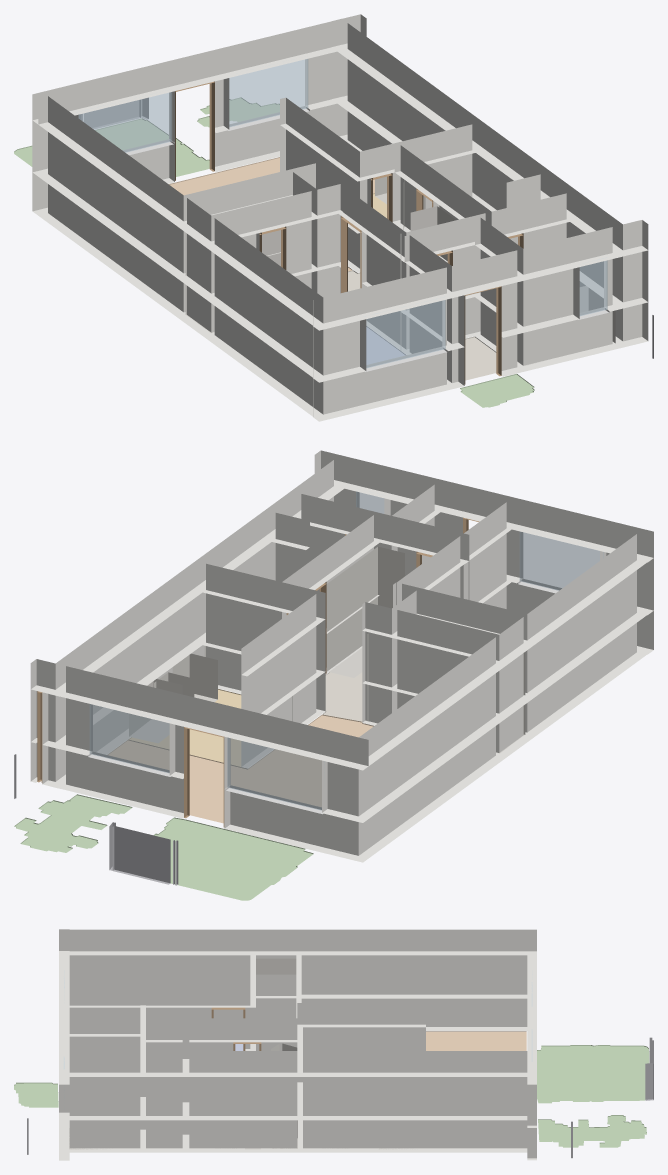
3 views of the same model, one above another, from view 1: azimuth 30°, elevation 25°; view 2: azimuth 150°, elevation 25°; view 3: azimuth 270°, elevation 25° (orthographic). The views are drawn at different scales.
Visible parts, largest first — view 1: walls, window_0, window_4, window_3, floor_8_Outdoor, floor_0_Living_Room, floor_10_Outdoor, window_5, railings, floor_6_Entry, floor_9_Outdoor, floor_5_Bed_Room (+6 smaller); view 2: walls, floor_8_Outdoor, floor_0_Living_Room, furniture_2_closet, window_3, window_4, floor_9_Outdoor, railings, window_0, floor_1_Kitchen, floor_2_Entry, furniture_5_appliance (+2 smaller); view 3: walls, floor_8_Outdoor, floor_9_Outdoor, floor_0_Living_Room, floor_10_Outdoor, furniture_0_closet, railings.
Part boxes in pixels (left/top/right/bottom): walls: left=32, top=14, right=648, bottom=421; window_0: left=365, top=300, right=445, bottom=368; window_4: left=226, top=59, right=308, bottom=126; window_3: left=78, top=92, right=172, bottom=152; floor_8_Outdoor: left=14, top=118, right=209, bottom=176; floor_0_Living_Room: left=169, top=157, right=374, bottom=271; floor_10_Outdoor: left=460, top=374, right=534, bottom=407; window_5: left=579, top=257, right=607, bottom=316; railings: left=79, top=98, right=653, bottom=358; floor_6_Entry: left=465, top=336, right=496, bottom=380; floor_9_Outdoor: left=197, top=97, right=279, bottom=127; floor_5_Bed_Room: left=366, top=326, right=405, bottom=364; walls: left=30, top=450, right=653, bottom=862; floor_8_Outdoor: left=154, top=817, right=313, bottom=900; floor_0_Living_Room: left=108, top=714, right=373, bottom=823; furniture_2_closet: left=327, top=546, right=404, bottom=677; window_3: left=227, top=737, right=324, bottom=810; window_4: left=89, top=704, right=170, bottom=772; floor_9_Outdoor: left=14, top=794, right=132, bottom=852; railings: left=14, top=754, right=178, bottom=885; window_0: left=519, top=531, right=603, bottom=590; floor_1_Kitchen: left=129, top=689, right=241, bottom=766; floor_2_Entry: left=322, top=672, right=362, bottom=721; furniture_5_appliance: left=172, top=653, right=217, bottom=702; walls: left=59, top=929, right=536, bottom=1160; floor_8_Outdoor: left=537, top=1045, right=649, bottom=1103; floor_9_Outdoor: left=538, top=1115, right=646, bottom=1147; floor_0_Living_Room: left=426, top=1031, right=526, bottom=1050; floor_10_Outdoor: left=14, top=1082, right=58, bottom=1107; furniture_0_closet: left=256, top=958, right=296, bottom=974; railings: left=27, top=1037, right=653, bottom=1158.
Bounding box in the file's own units: 7.95 × 2.72 × 16.08.
